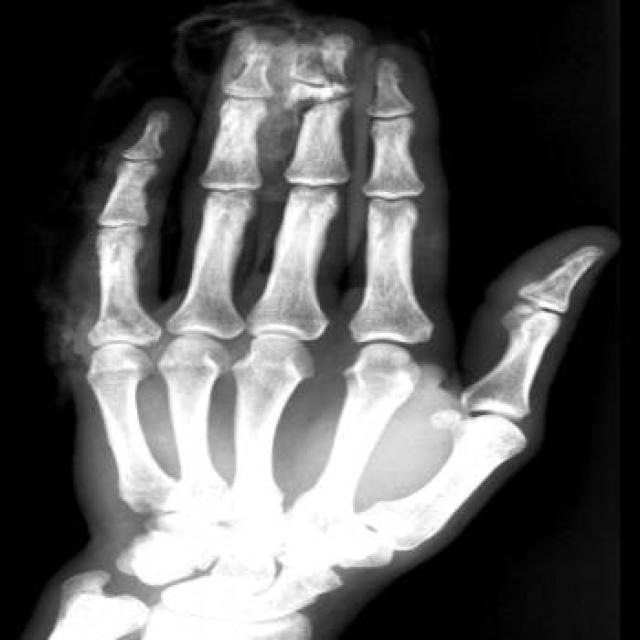fracture: (281, 34, 374, 100)
